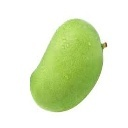mango: (28, 18, 107, 109)
